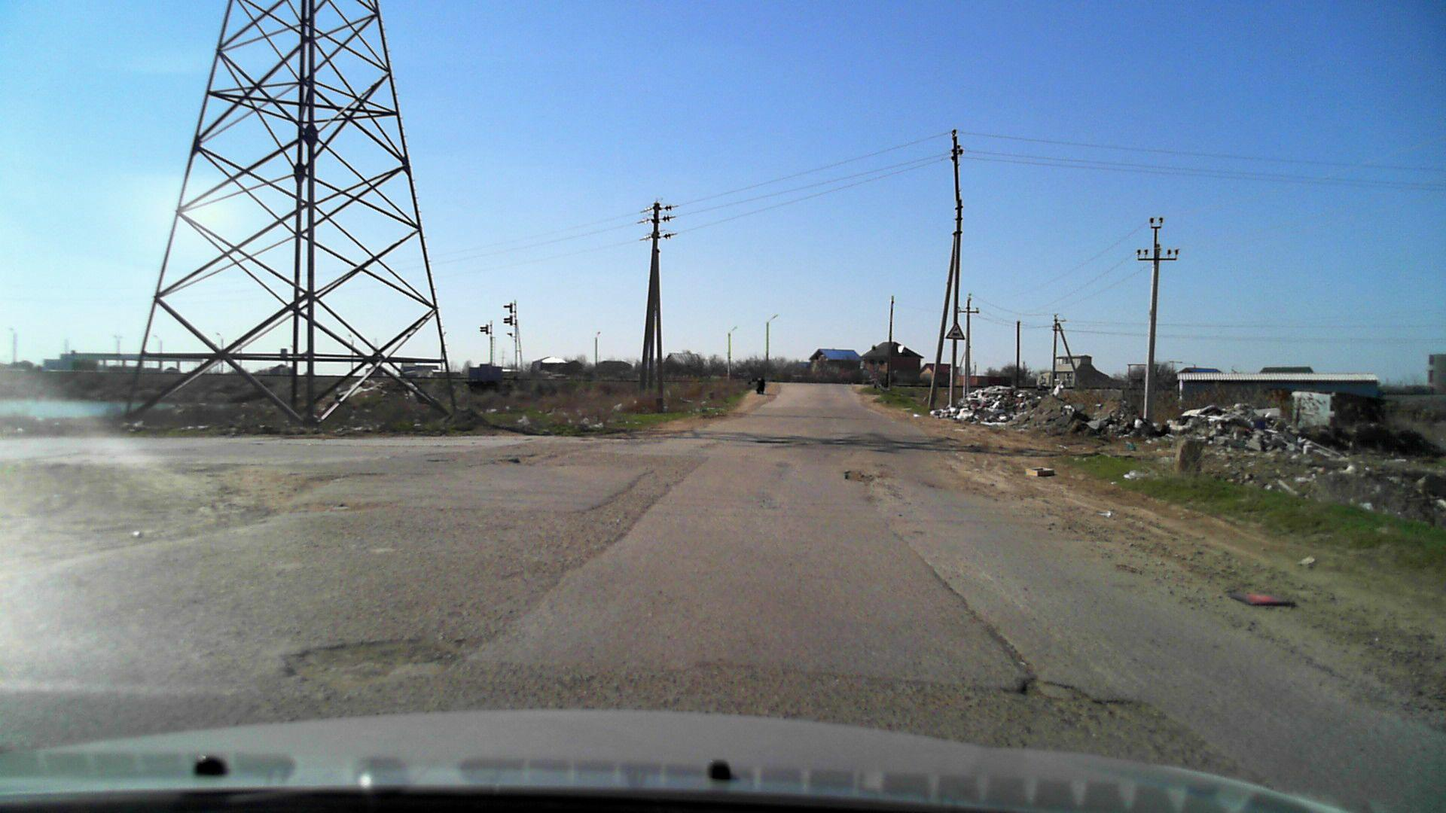pothole: (283, 638, 460, 690), (1004, 676, 1101, 709), (845, 470, 878, 486)
road_sign: (945, 322, 965, 340)
